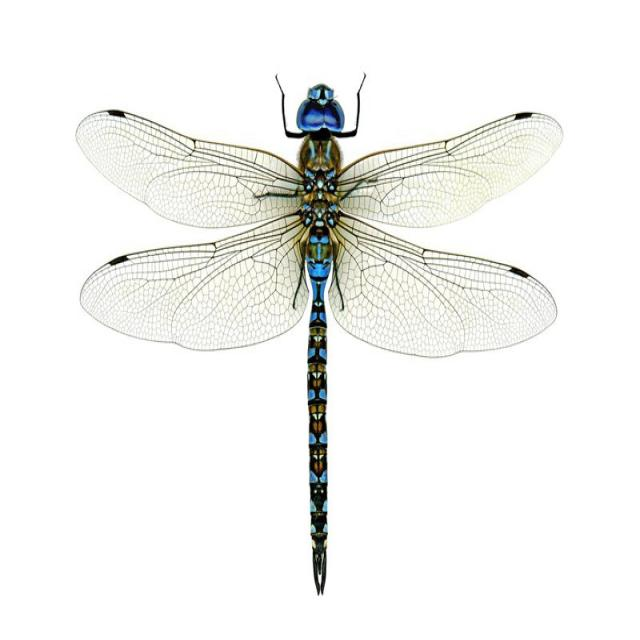dragonfly: (77, 76, 562, 593)
